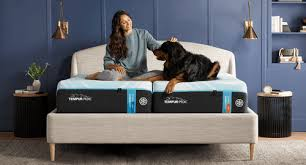bed-matress: (54, 73, 248, 114)
